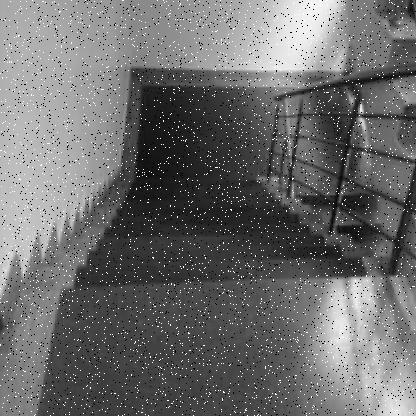stair_down: (37, 209, 388, 328)
